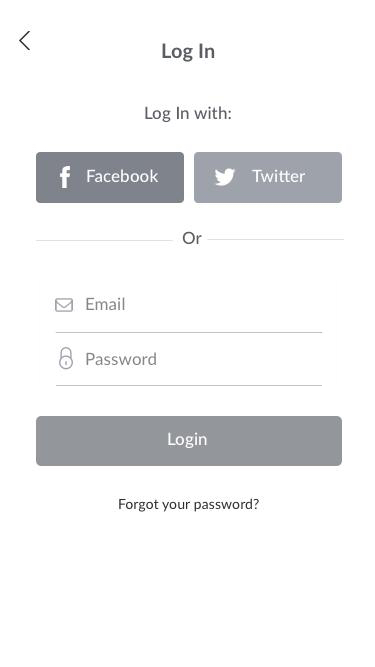EditText: (56, 346, 323, 387), (55, 296, 323, 334)
Icon: (60, 347, 75, 370), (55, 298, 75, 313), (19, 32, 34, 51)
Text: (119, 498, 261, 513), (145, 107, 232, 123), (86, 351, 157, 366), (162, 43, 216, 62), (87, 296, 126, 312), (183, 232, 203, 245)
TextButton: (36, 416, 343, 467), (36, 152, 185, 204), (194, 152, 343, 204)
